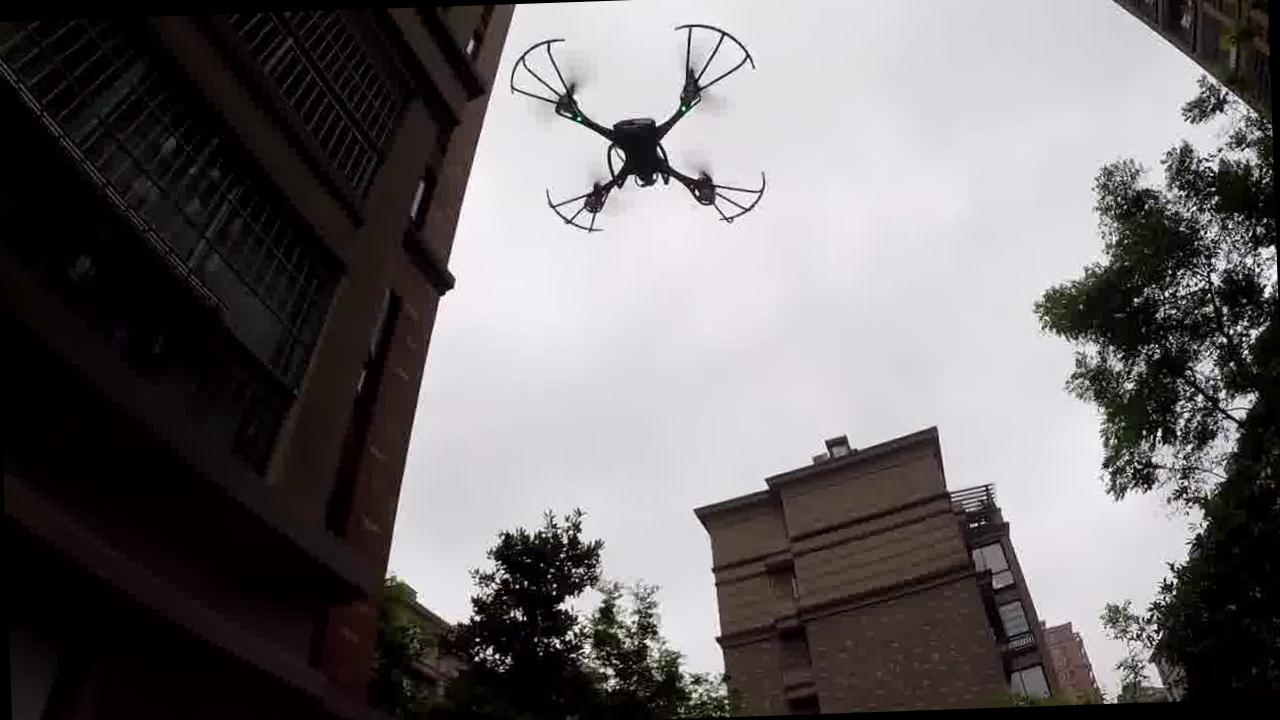drone: (502, 8, 777, 253)
